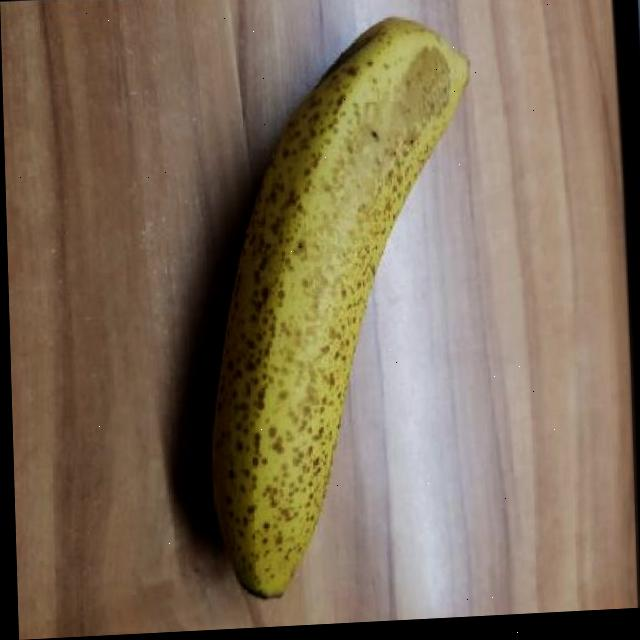banana: (194, 1, 491, 606)
